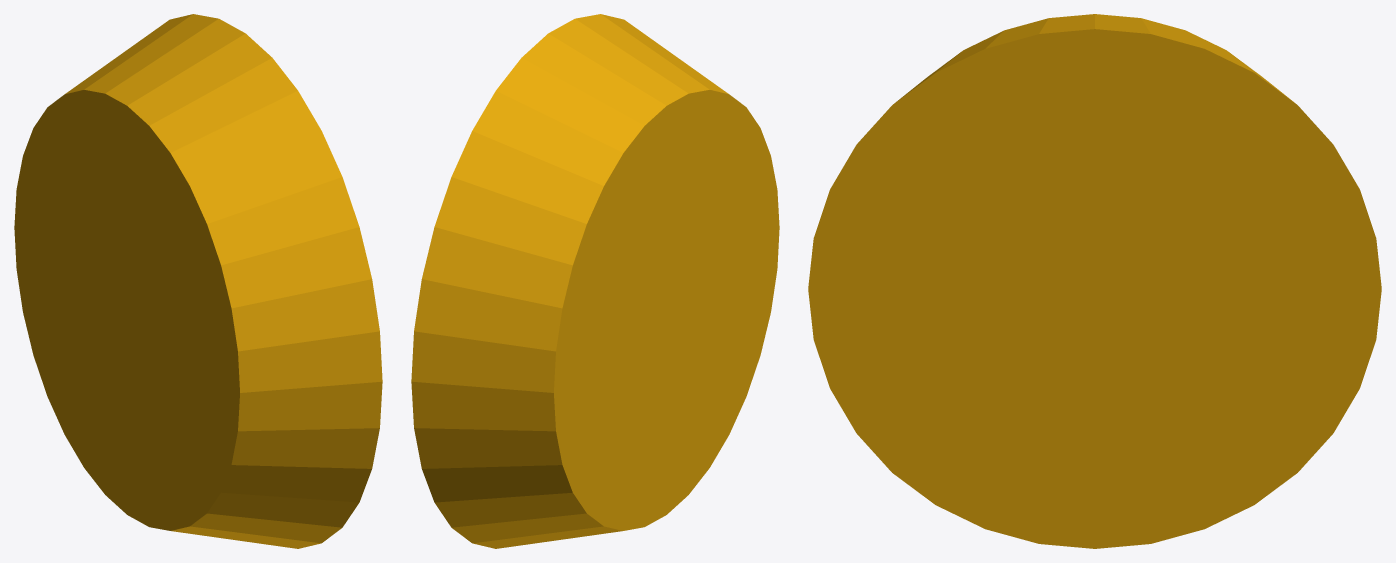
File: yellow_button.glb
3 renders of one model, left to right at view 1: azimuth 30°, elevation 25°; view 2: azimuth 150°, elevation 25°; view 3: azimuth 270°, elevation 25°, orthographic. The views are drawn at different scales.
Parts seen in each view (by area): view 1: Cylinder.001; view 2: Cylinder.001; view 3: Cylinder.001.
Part boxes in pixels (x1,y1,x2,y2): Cylinder.001: (14,14,382,548); Cylinder.001: (411,14,779,548); Cylinder.001: (808,14,1381,548).
Size of the model in its own units: 0.125 by 0.5 by 0.5.
